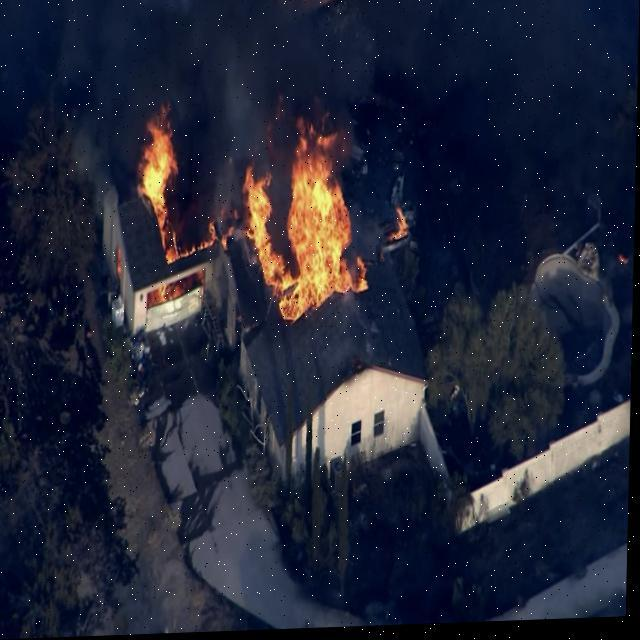Fire: (282, 104, 372, 325), (135, 93, 184, 270), (242, 164, 298, 294), (393, 206, 409, 248), (201, 222, 217, 252), (222, 232, 230, 253), (183, 248, 198, 258)
